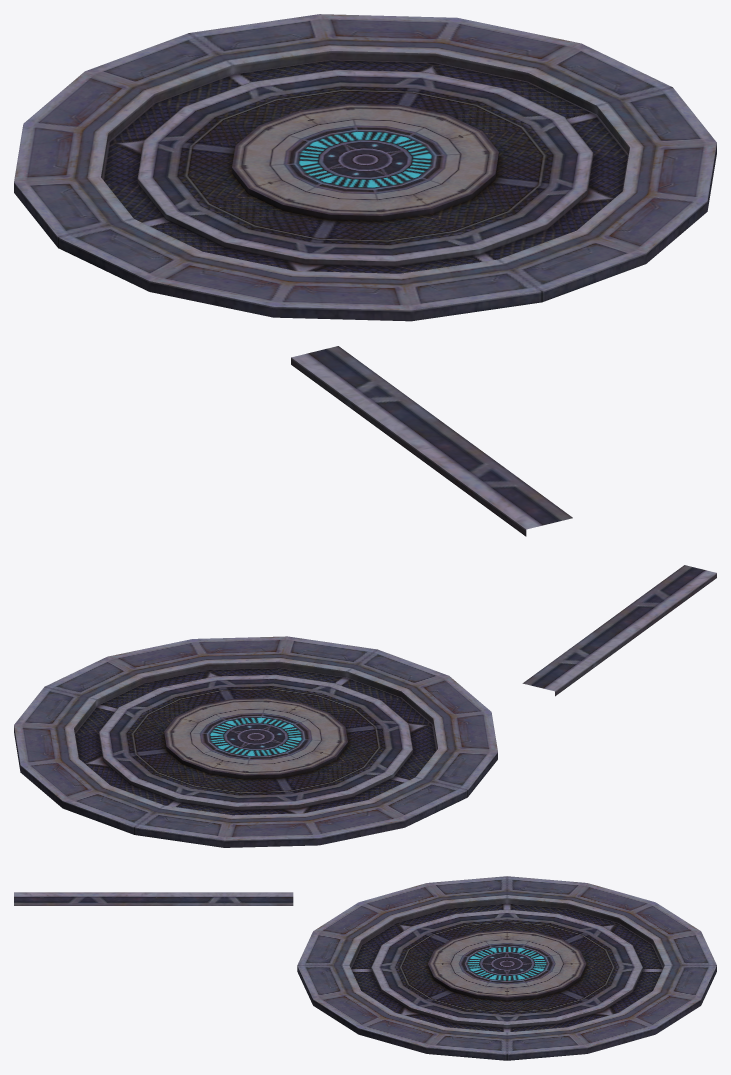
File: zc_lekesigang_dayuantai01.FBX
3 views of the same model, one above another, from view 1: azimuth 30°, elevation 25°; view 2: azimuth 150°, elevation 25°; view 3: azimuth 270°, elevation 25° (orthographic). The views are drawn at different scales.
Visible parts, largest first — view 1: zc_lekesigang_dayuantai01; view 2: zc_lekesigang_dayuantai01; view 3: zc_lekesigang_dayuantai01.
Boxes of the visible parts, x1,y1,x2,y2 form: zc_lekesigang_dayuantai01: (14, 14, 716, 536); zc_lekesigang_dayuantai01: (14, 565, 716, 847); zc_lekesigang_dayuantai01: (14, 876, 716, 1060).
Size of the model in its own units: 1452 by 30.18 by 2421.
Materials: 1 (1 with a texture image).
